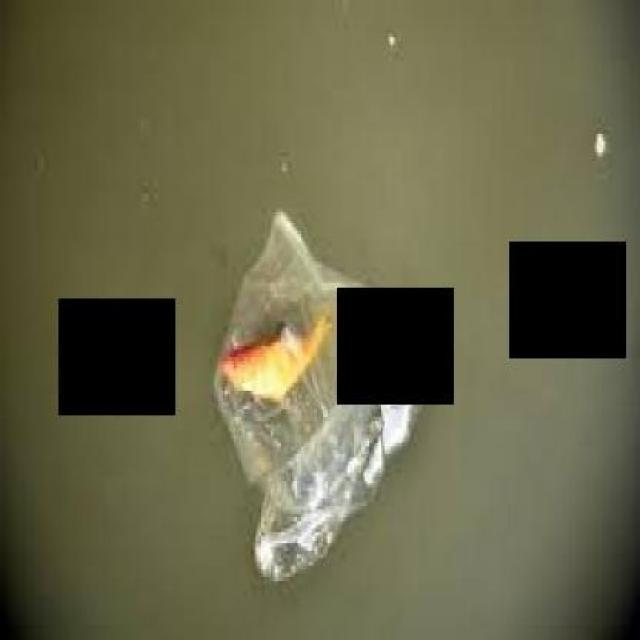plastic bag: (200, 169, 446, 597)
